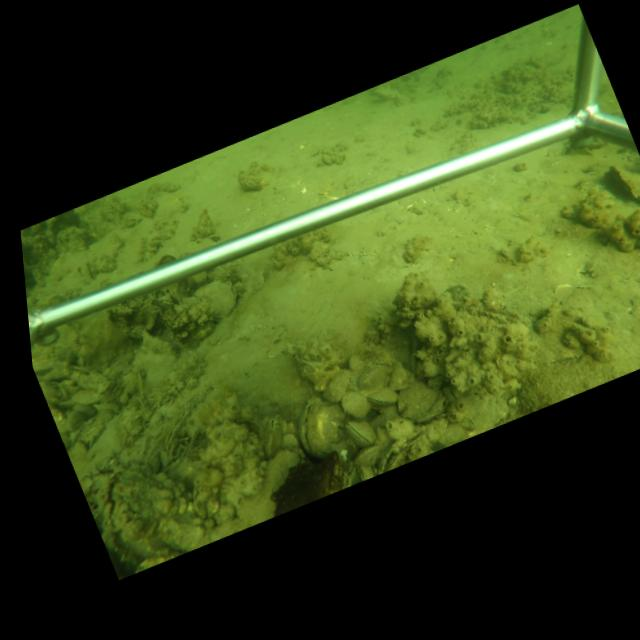Oyster-Closed: (297, 395, 344, 461), (195, 277, 239, 319), (138, 329, 180, 359), (339, 389, 375, 419), (323, 367, 353, 401), (611, 165, 640, 200), (357, 361, 390, 390), (346, 421, 377, 448), (368, 388, 397, 406), (342, 463, 357, 487), (359, 464, 369, 481)
Oyster-Indeterminate: (396, 381, 447, 423)
Oyster-Open: (104, 465, 189, 558), (374, 422, 433, 473)
